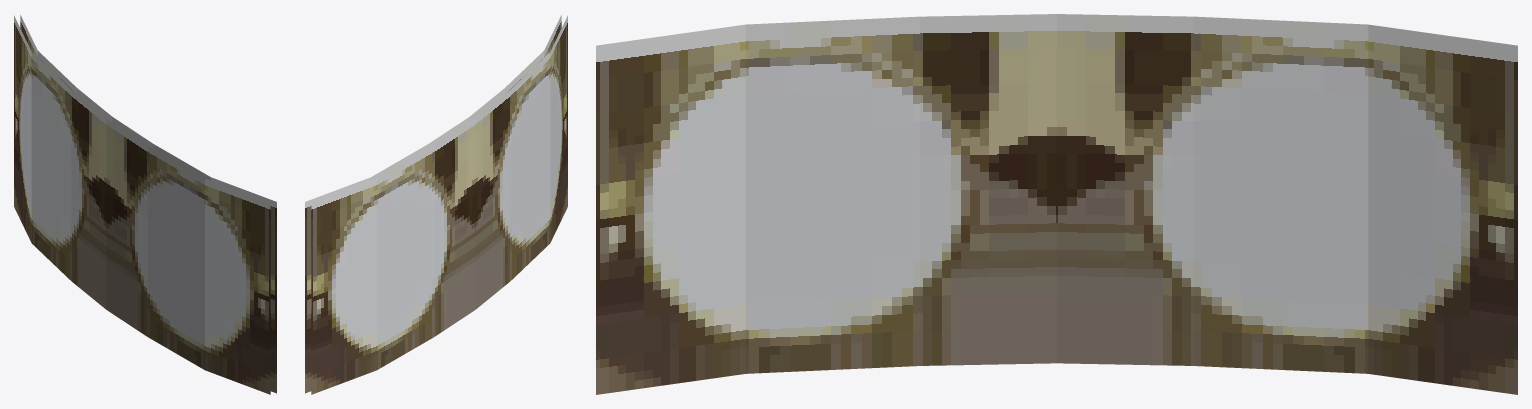
Rendered from Chameleon_glasses.obj.
3 renders of one model, left to right at view 1: azimuth 30°, elevation 25°; view 2: azimuth 150°, elevation 25°; view 3: azimuth 270°, elevation 25°, orthographic. The views are drawn at different scales.
Visible parts, largest first — view 1: Chameleon_glasses_tri; view 2: Chameleon_glasses_tri; view 3: Chameleon_glasses_tri.
Part boxes in pixels (x1,y1,x2,y2): Chameleon_glasses_tri: [14, 15, 276, 394]; Chameleon_glasses_tri: [305, 15, 567, 394]; Chameleon_glasses_tri: [596, 14, 1517, 394].
Bounding box in the file's own units: 0.014 × 0.061 × 0.1481.
Materials: 1 (1 with a texture image).
